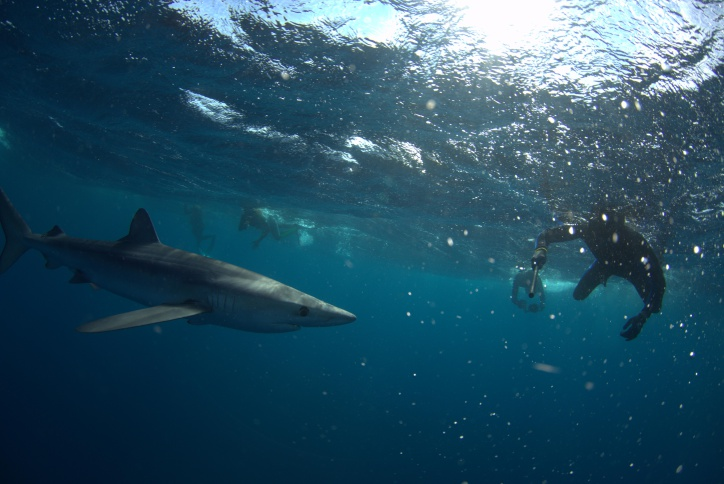Azul: (1, 178, 387, 369)
